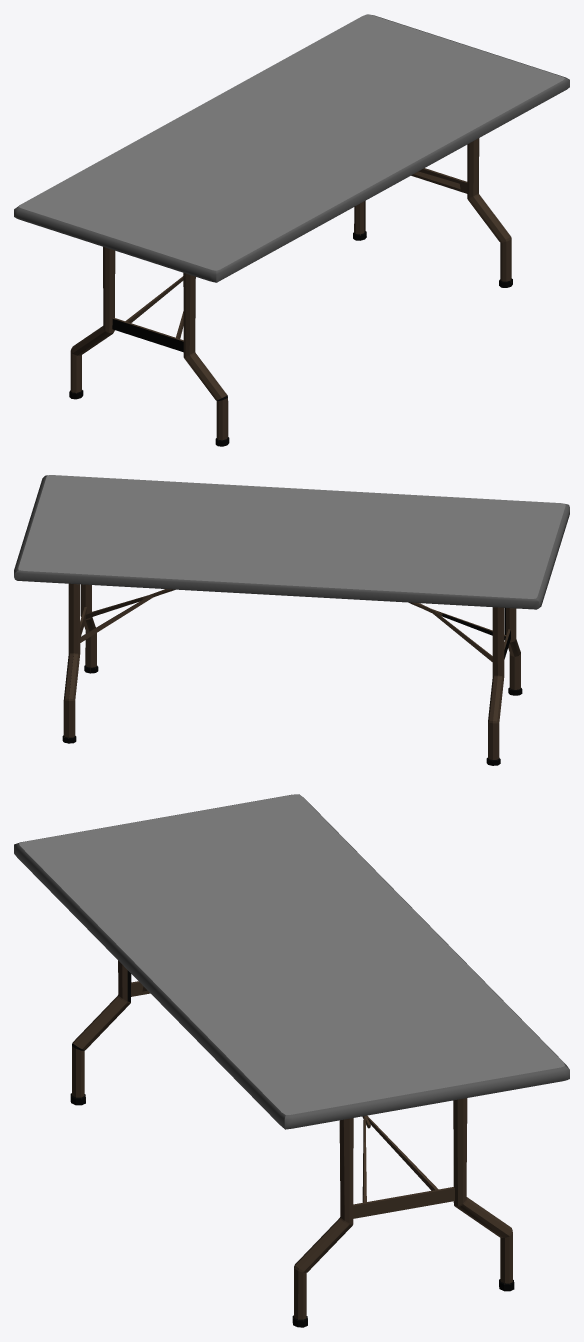
File: folding table.fbx
3 views of the same model, one above another, from view 1: azimuth 30°, elevation 25°; view 2: azimuth 150°, elevation 25°; view 3: azimuth 270°, elevation 25° (orthographic). The views are drawn at different scales.
Visible parts, largest first — view 1: FoldingTable_TEXTURED_v2:polySurface2, FoldingTable_TEXTURED_v2:polySurface7, FoldingTable_TEXTURED_v2:polySurface1; view 2: FoldingTable_TEXTURED_v2:polySurface2, FoldingTable_TEXTURED_v2:polySurface7, FoldingTable_TEXTURED_v2:polySurface1, FoldingTable_TEXTURED_v2:feet; view 3: FoldingTable_TEXTURED_v2:polySurface2, FoldingTable_TEXTURED_v2:polySurface7, FoldingTable_TEXTURED_v2:polySurface1.
Part boxes in pixels (left/top/right/bottom): FoldingTable_TEXTURED_v2:polySurface2: left=18, top=14, right=564, bottom=270; FoldingTable_TEXTURED_v2:polySurface7: left=70, top=138, right=511, bottom=440; FoldingTable_TEXTURED_v2:polySurface1: left=14, top=15, right=569, bottom=282; FoldingTable_TEXTURED_v2:polySurface2: left=18, top=475, right=565, bottom=598; FoldingTable_TEXTURED_v2:polySurface7: left=63, top=583, right=520, bottom=759; FoldingTable_TEXTURED_v2:polySurface1: left=14, top=475, right=569, bottom=609; FoldingTable_TEXTURED_v2:feet: left=62, top=665, right=522, bottom=765; FoldingTable_TEXTURED_v2:polySurface2: left=19, top=794, right=564, bottom=1114; FoldingTable_TEXTURED_v2:polySurface7: left=72, top=960, right=512, bottom=1319; FoldingTable_TEXTURED_v2:polySurface1: left=14, top=794, right=569, bottom=1129.
Size of the model in its own units: 19.58 by 6.74 by 14.13.
